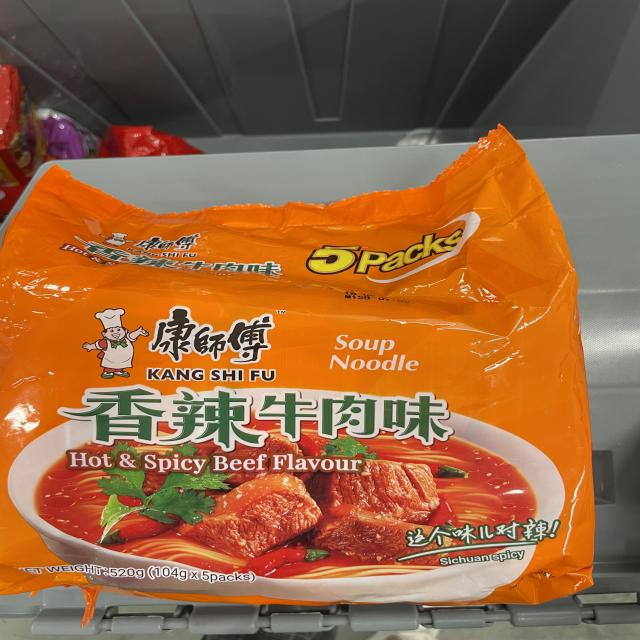object_name: (6, 203, 548, 600)
